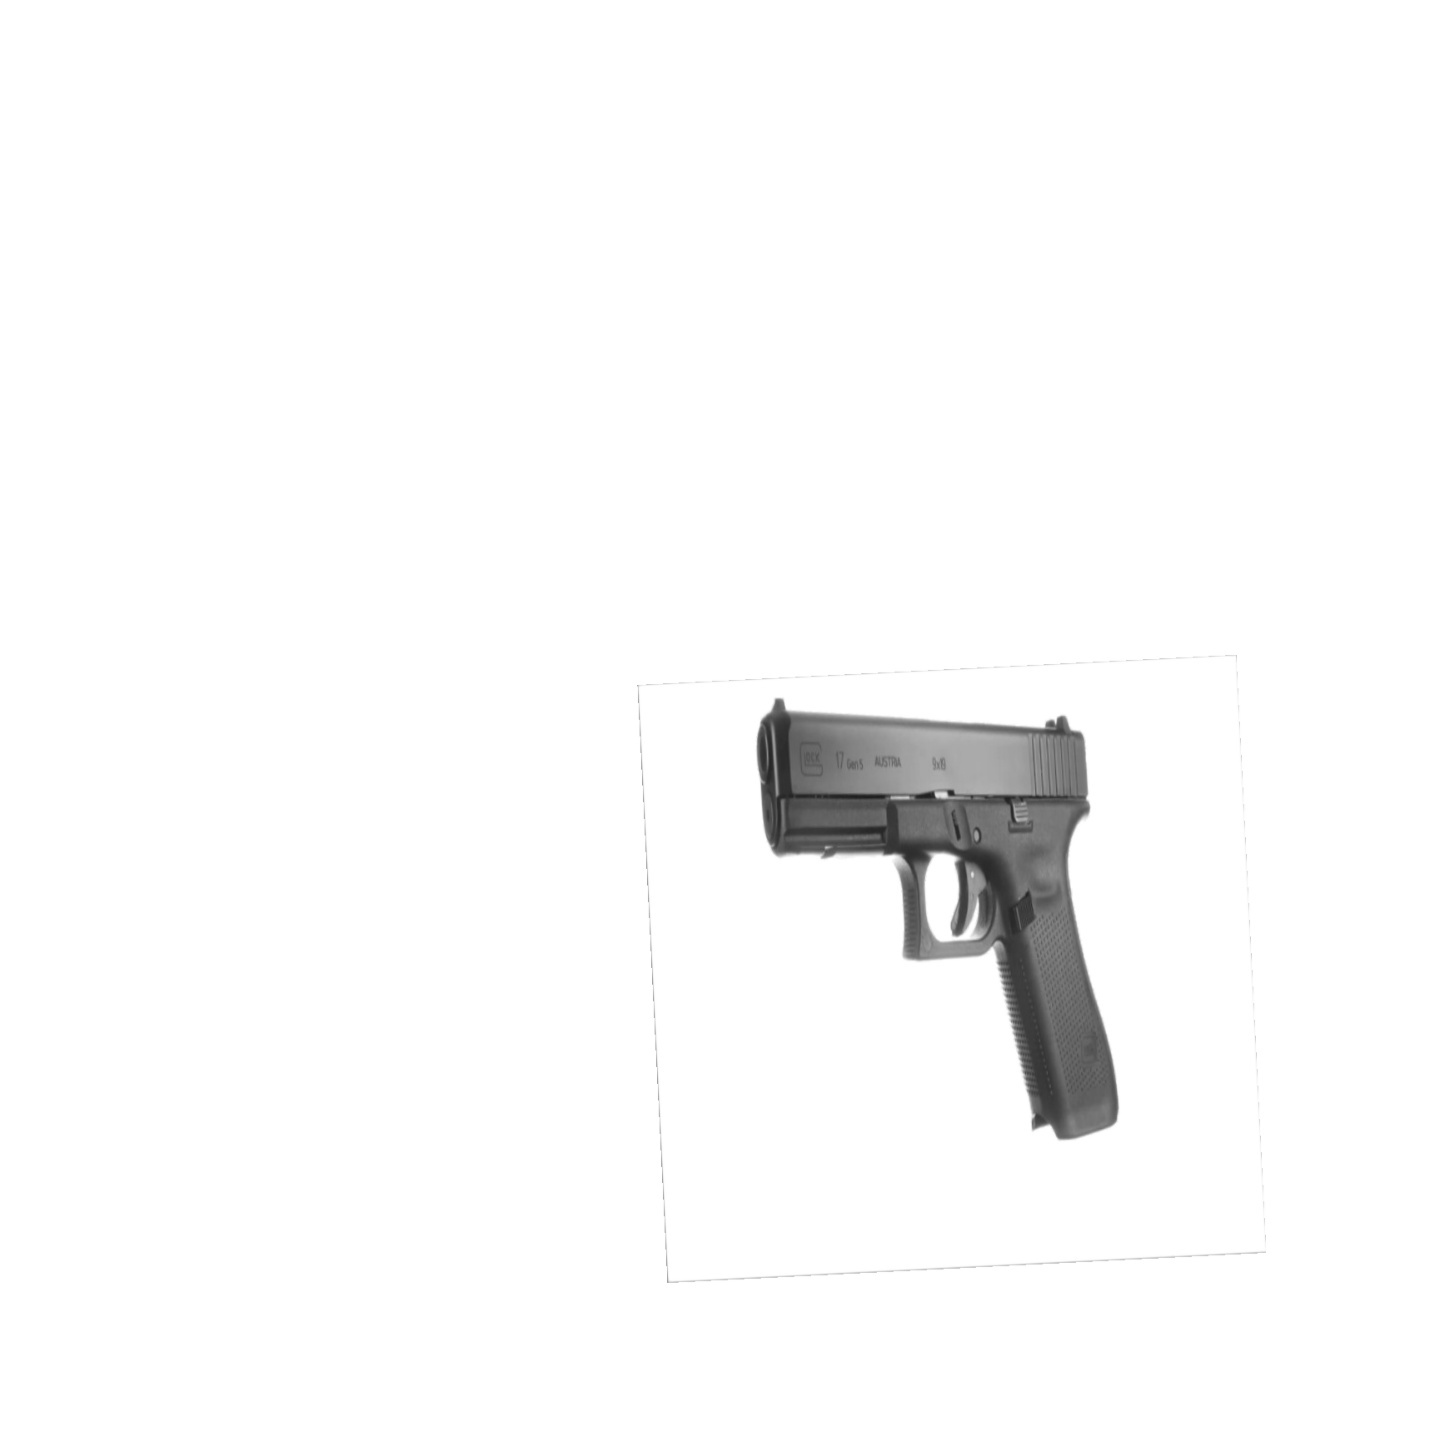gun: (755, 687, 1127, 1150)
